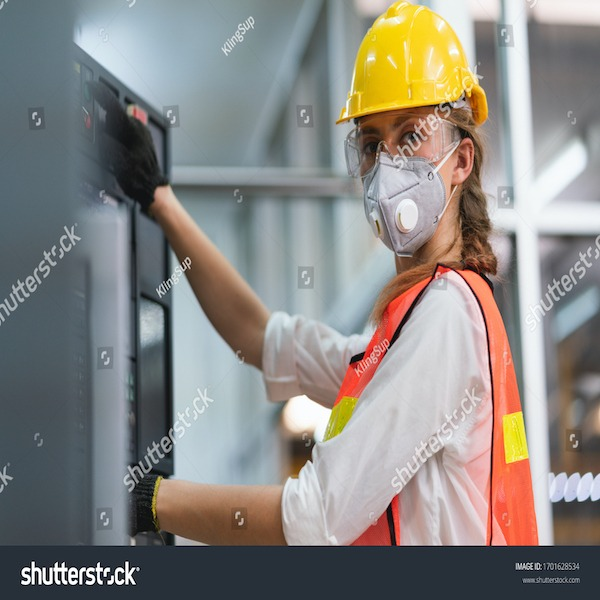helmet: (342, 4, 479, 123)
vest: (329, 300, 545, 549)
